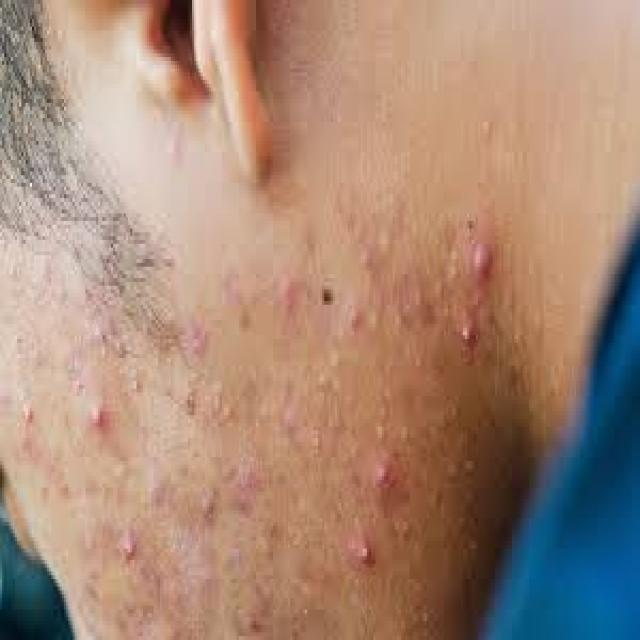Acne: (342, 528, 377, 572), (371, 450, 401, 499), (459, 307, 481, 363), (471, 234, 495, 283), (96, 329, 128, 364), (233, 468, 256, 516), (278, 272, 298, 318), (187, 320, 208, 360), (346, 298, 366, 338), (122, 526, 139, 572), (88, 402, 110, 436), (148, 468, 166, 508), (279, 400, 299, 436), (16, 434, 43, 460), (199, 559, 216, 599), (19, 398, 38, 428), (359, 244, 376, 274)
